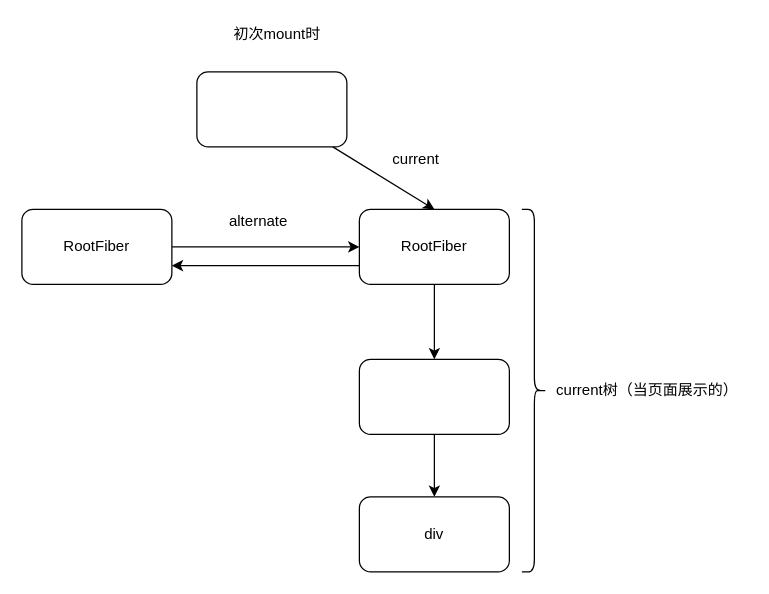
Some shapes in this 769 by 594 pixel diagram are drawn without their labels. The box of each missing label's shape, as (x1, y1, x2, y2) in pixels:
App: (358, 358, 509, 434)
FiberRoot: (196, 71, 347, 147)
